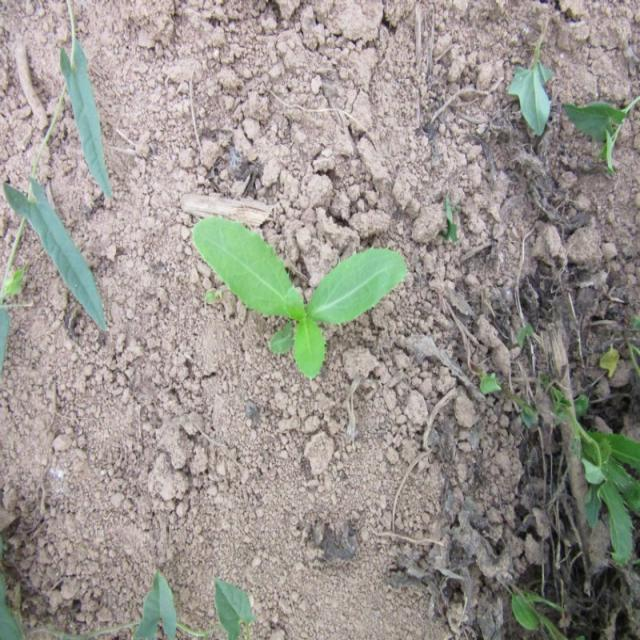field_thistle: (212, 206, 402, 391)
